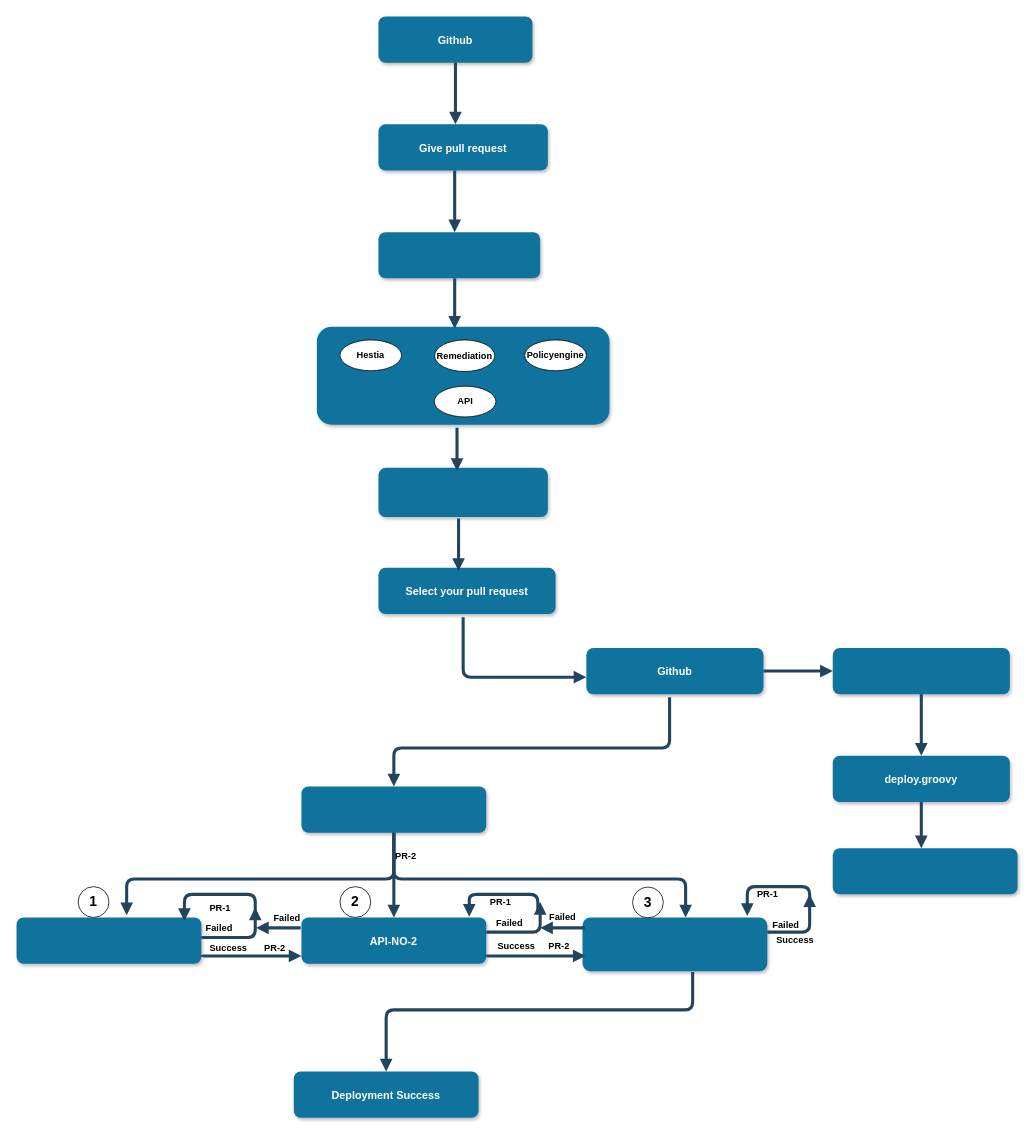
Some shapes in this 1035 by 1136 pixel diagram are drawn without their labels. The centre of each missing label's shape, as x and y in pixels:
API-NO-1: point 109,941
API-NO-3: point 675,945
Deploy Repository: point 921,671
deploy.app.sh: point 925,872
Open Jenkins: point 459,256
Pull Request: point 463,493
Select Environment Production: point 394,810
